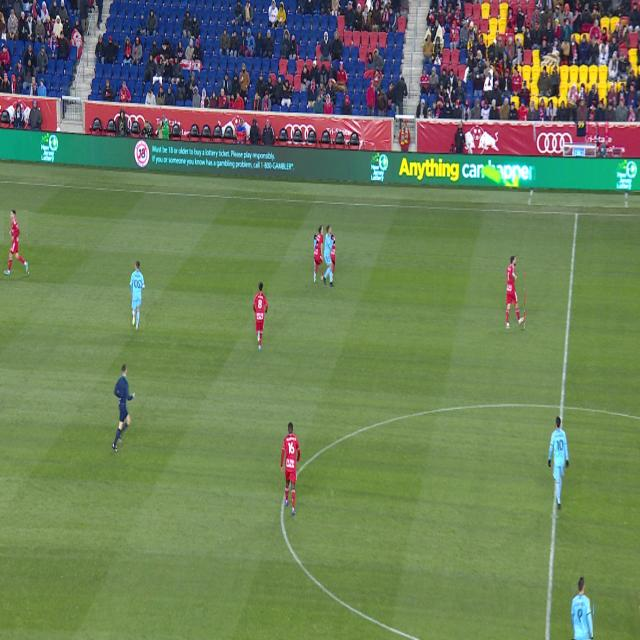player: (548, 417, 569, 509), (281, 423, 300, 515), (5, 211, 28, 276), (572, 577, 593, 640), (507, 256, 524, 329), (130, 262, 145, 331), (254, 282, 267, 350), (323, 225, 335, 287), (314, 225, 327, 282)
referee: (112, 365, 135, 452)
